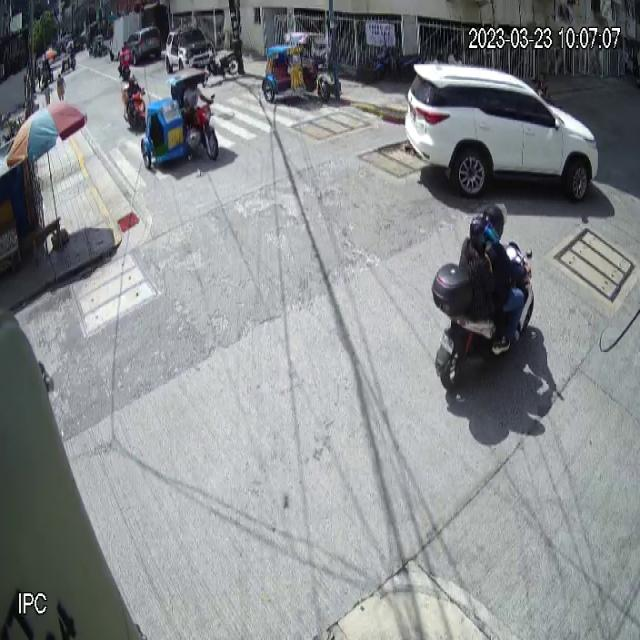Car: (404, 62, 600, 202)
Motorcycle: (431, 238, 535, 392), (123, 85, 147, 134)
Tricycle: (141, 68, 219, 169)
